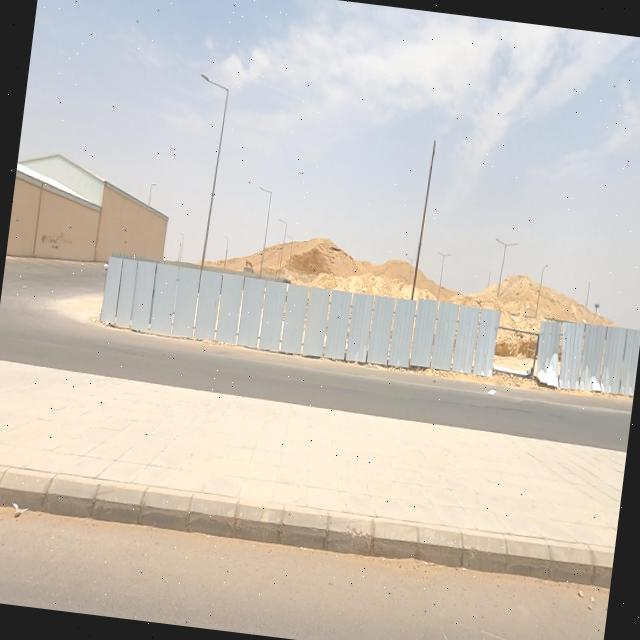Graffiti: (39, 232, 75, 258)
